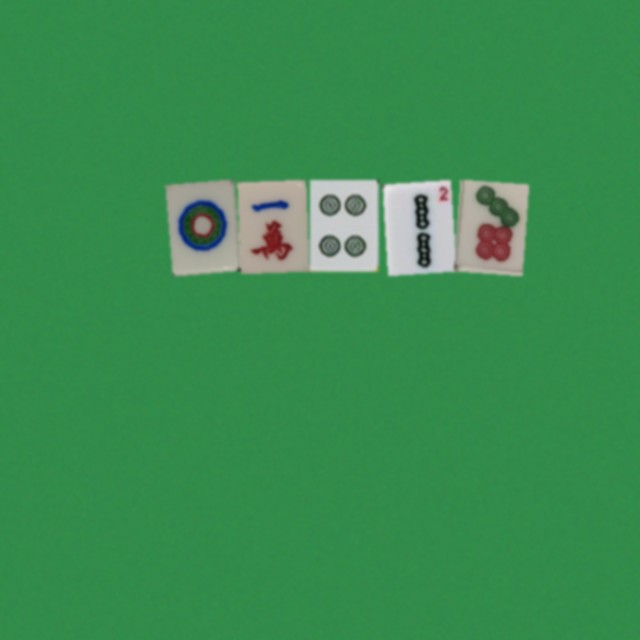tile: (165, 179, 234, 271), (237, 179, 306, 271), (309, 179, 378, 271), (381, 179, 450, 271), (453, 179, 522, 271)
